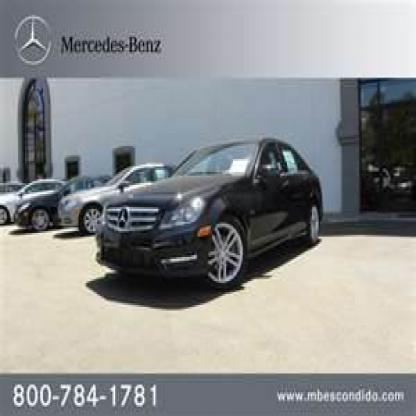car: (96, 139, 327, 298)
